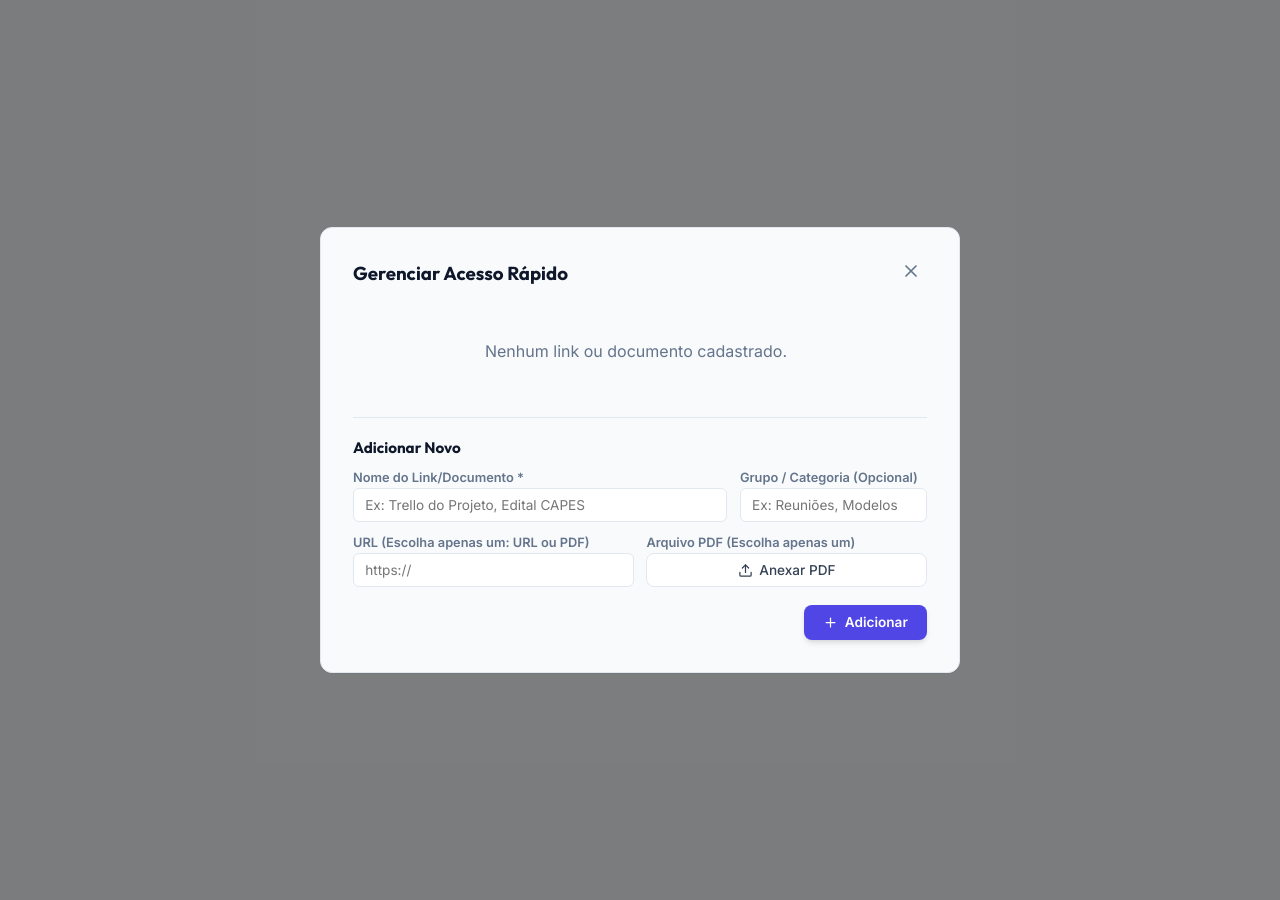
Scenario: ManageQuickAccessModal PDF attachment › disables attaching while a url is typed
In the field with placeholder "https://": (493, 570) x1=353 y1=553 x2=634 y2=587, type "https://x"
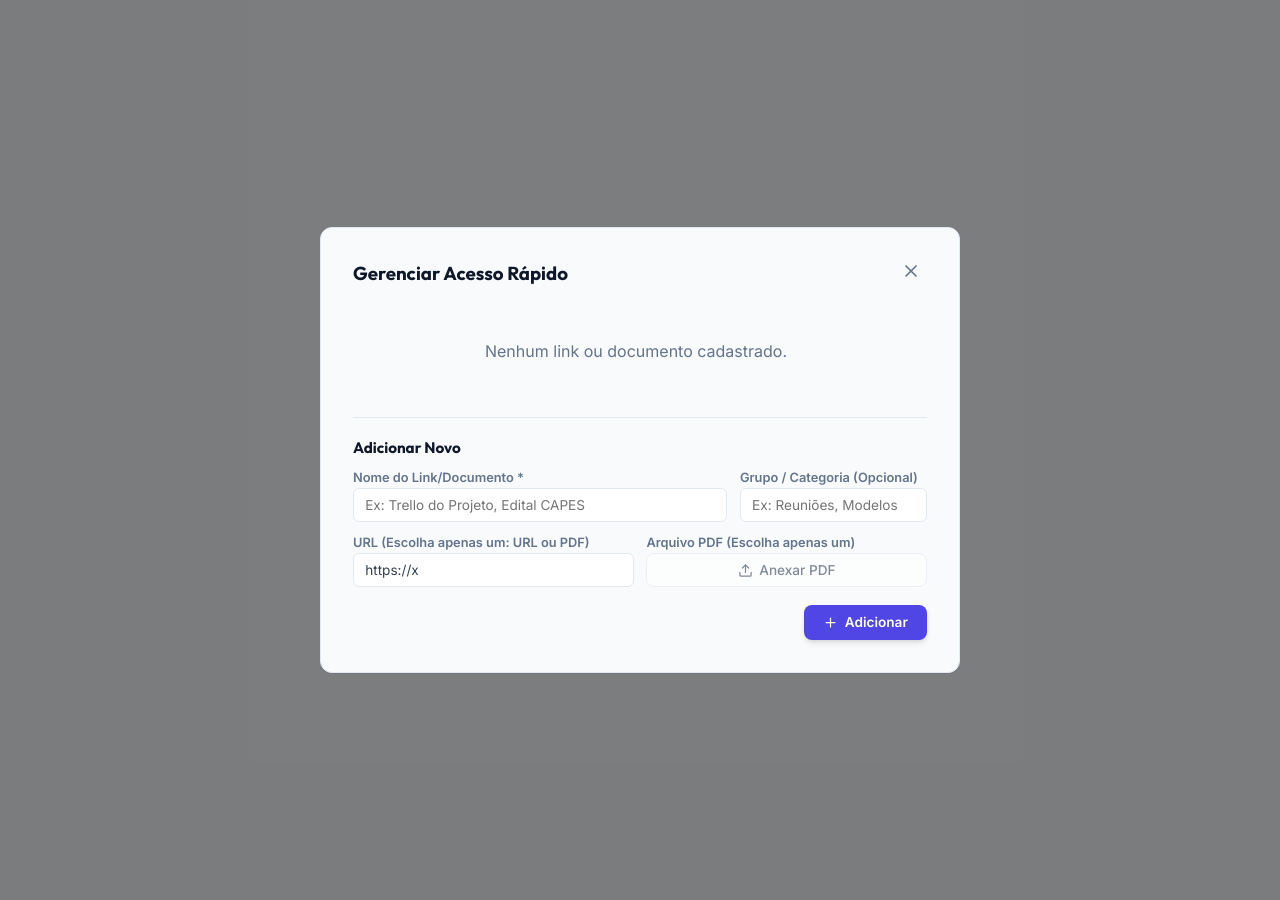
Now the button "Anexar PDF" is disabled, box x1=646 y1=553 x2=927 y2=587
